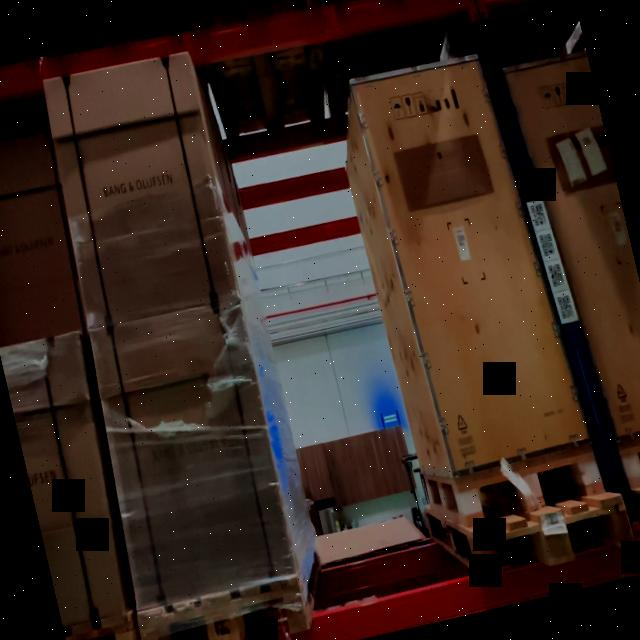box: (362, 62, 570, 486), (92, 302, 296, 602), (45, 54, 236, 322)
